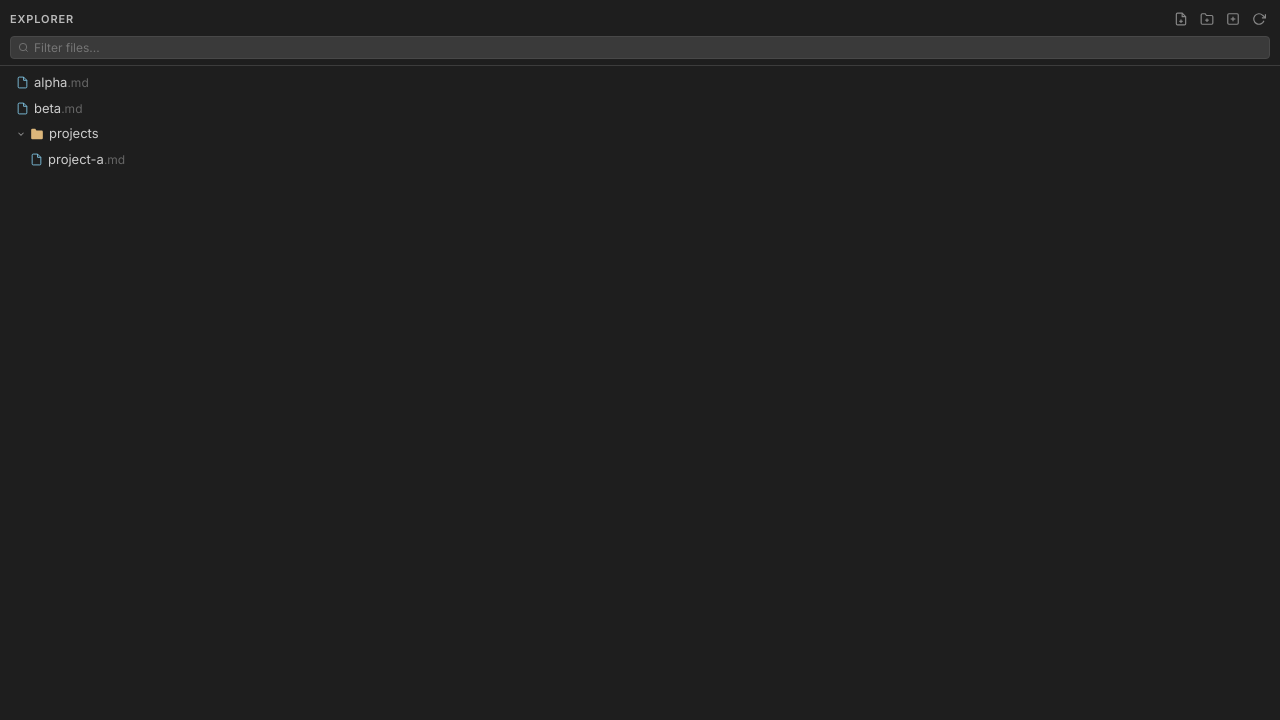
Scenario: FileTree › InputModal for new file/folder › shows InputModal when New note button is clicked
What coordinates should you click on to do the following:
click the button titled "New note"
I would click on:
 (1181, 19)
Its box is [1170,8,1192,30].
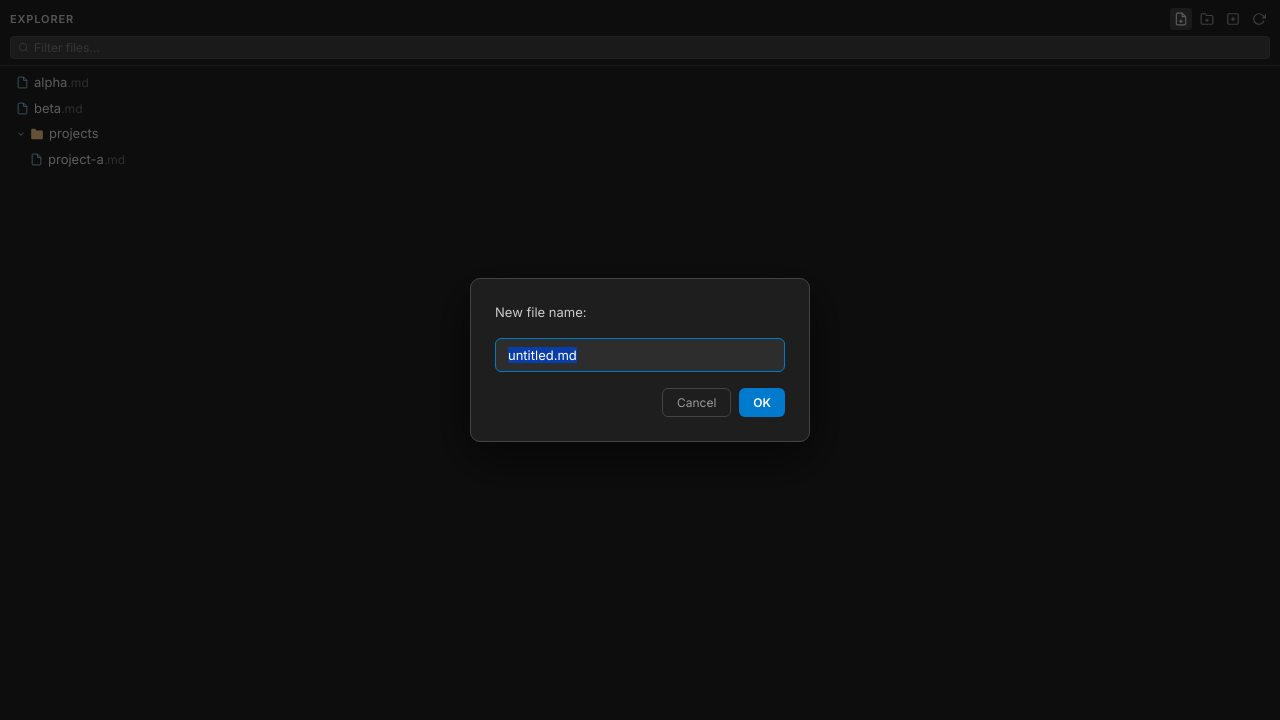
Check: the text "New file name:" is shown, box [495,304,586,320]
